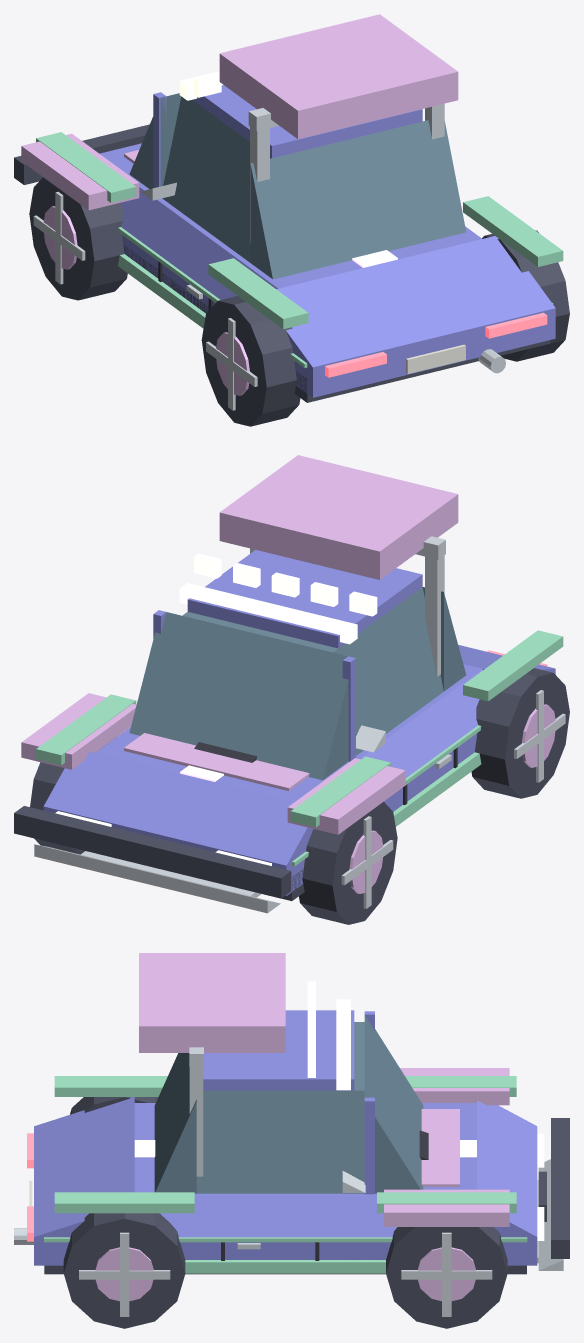
Rendered from wildpath_wagon.glb.
The picture shows the model from 3 angles, top to bottom: view 1: azimuth 30°, elevation 25°; view 2: azimuth 150°, elevation 25°; view 3: azimuth 270°, elevation 25°; orthographic projection. The views are drawn at different scales.
Visible parts, largest first — view 1: RearWindow.173, Tail.073, RoofTent.023, CabinSideL.070, Wheel_RL.233, Body.273, Wheel_FL.233, ShoulderL.070, Roof.273, Fender-1.066, BodyUpper.070, Arch-1True.149 (+21 smaller); view 2: Windshield.173, RoofTent.023, Nose.070, Roof.273, CabinSideL.070, BashBar.066, Wheel_RL.233, Wheel_FL.233, ShoulderL.070, Hood.269, Bumper.269, Fender-1.066 (+24 smaller); view 3: CabinSideR.070, RoofTent.023, Tail.073, ShoulderR.070, Wheel_RR.233, Wheel_FR.233, Roof.273, Windshield.173, Nose.070, Body.273, RearWindow.173, BodyUpper.070 (+24 smaller).
Boxes of the visible parts, left/top/right/bottom form: RearWindow.173: left=250, top=120, right=466, bottom=279; Tail.073: left=276, top=236, right=555, bottom=367; RoofTent.023: left=219, top=14, right=458, bottom=139; CabinSideL.070: left=162, top=96, right=271, bottom=262; Wheel_RL.233: left=201, top=296, right=300, bottom=426; Body.273: left=122, top=235, right=555, bottom=397; Wheel_FL.233: left=29, top=177, right=127, bottom=300; ShoulderL.070: left=120, top=187, right=277, bottom=299; Roof.273: left=192, top=85, right=422, bottom=158; Fender-1.066: left=21, top=133, right=139, bottom=210; BodyUpper.070: left=100, top=143, right=481, bottom=288; Arch-1True.149: left=208, top=258, right=308, bottom=329; Windshield.173: left=129, top=612, right=348, bottom=780; RoofTent.023: left=219, top=455, right=458, bottom=579; Nose.070: left=43, top=751, right=313, bottom=865; Roof.273: left=187, top=550, right=422, bottom=648; CabinSideL.070: left=333, top=587, right=443, bottom=755; BashBar.066: left=14, top=806, right=291, bottom=898; Wheel_RL.233: left=471, top=668, right=569, bottom=798; Wheel_FL.233: left=299, top=801, right=397, bottom=924; ShoulderL.070: left=359, top=669, right=482, bottom=777; Hood.269: left=124, top=733, right=309, bottom=790; Bumper.269: left=34, top=844, right=280, bottom=913; Fender-1.066: left=287, top=758, right=405, bottom=834; CabinSideR.070: left=196, top=1090, right=364, bottom=1193; RoofTent.023: left=139, top=953, right=285, bottom=1052; Tail.073: left=34, top=1097, right=134, bottom=1237; ShoulderR.070: left=160, top=1196, right=397, bottom=1237; Wheel_RR.233: left=63, top=1213, right=185, bottom=1328; Wheel_FR.233: left=386, top=1227, right=507, bottom=1328; Roof.273: left=203, top=1010, right=354, bottom=1090; Windshield.173: left=364, top=1015, right=423, bottom=1193; Nose.070: left=477, top=1100, right=537, bottom=1237; Body.273: left=34, top=1237, right=537, bottom=1265; RearWindow.173: left=154, top=1053, right=196, bottom=1193; BodyUpper.070: left=134, top=1103, right=476, bottom=1195.
Size of the model in its own units: 3.26 by 2.84 by 5.3.
